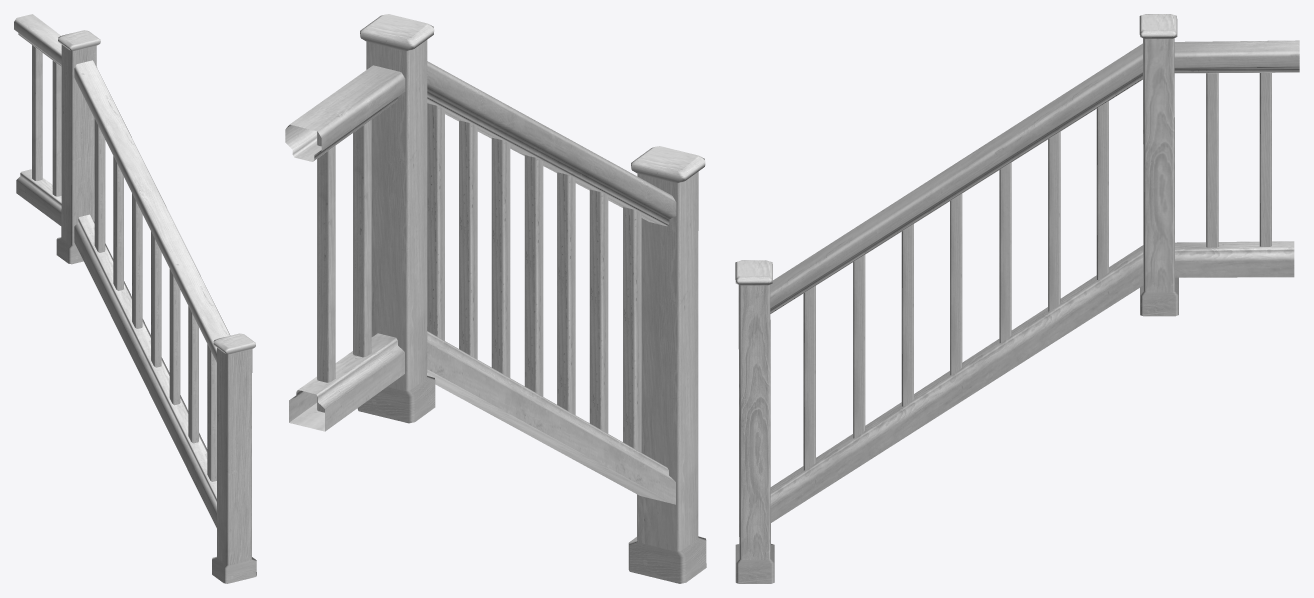
File: Stairs_Railing_A1.fbx
3 renders of one model, left to right at view 1: azimuth 30°, elevation 25°; view 2: azimuth 150°, elevation 25°; view 3: azimuth 270°, elevation 25°, orthographic. The views are drawn at different scales.
Parts seen in each view (by area): view 1: Stairs_Railing_A1; view 2: Stairs_Railing_A1; view 3: Stairs_Railing_A1.
Boxes of the visible parts, box(x1,y1,x2,y2) form: Stairs_Railing_A1: box(14, 14, 256, 583); Stairs_Railing_A1: box(285, 14, 706, 583); Stairs_Railing_A1: box(735, 14, 1299, 583).
Size of the model in its own units: 11.38 by 141 by 131.
